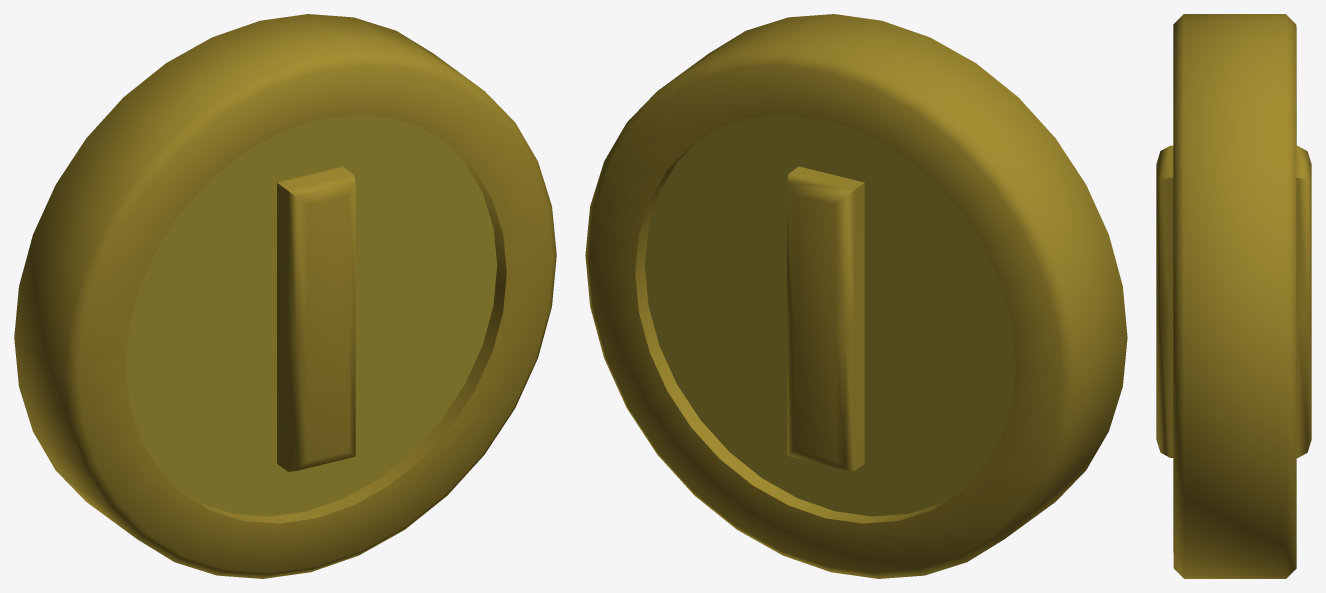
The model's file is Coin_Stripe.fbx.
The picture shows the model from 3 angles, left to right: view 1: azimuth 30°, elevation 25°; view 2: azimuth 150°, elevation 25°; view 3: azimuth 270°, elevation 25°; orthographic projection.
Visible parts, largest first — view 1: Coin_Stripe; view 2: Coin_Stripe; view 3: Coin_Stripe.
Part boxes in pixels (x1=…): Coin_Stripe: x1=14, y1=14, x2=556, y2=578; Coin_Stripe: x1=585, y1=14, x2=1127, y2=578; Coin_Stripe: x1=1156, y1=14, x2=1311, y2=578.
Size of the model in its own units: 56.41 by 56.41 by 15.5.
